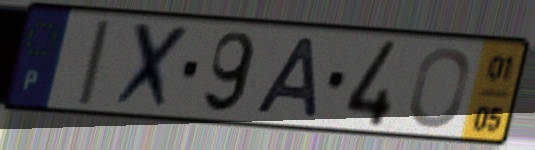4: (341, 37, 398, 130)
9: (200, 29, 258, 116)
A: (251, 34, 320, 123)
I: (74, 17, 115, 108)
O: (406, 44, 473, 131)
X: (108, 19, 195, 115)
